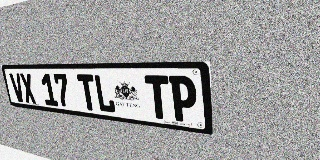1: (39, 74, 58, 106)
7: (52, 74, 72, 108)
L: (93, 74, 116, 114)
P: (169, 76, 198, 123)
T: (144, 75, 171, 120), (77, 74, 98, 111)
V: (9, 73, 26, 103)
X: (19, 73, 37, 104)
